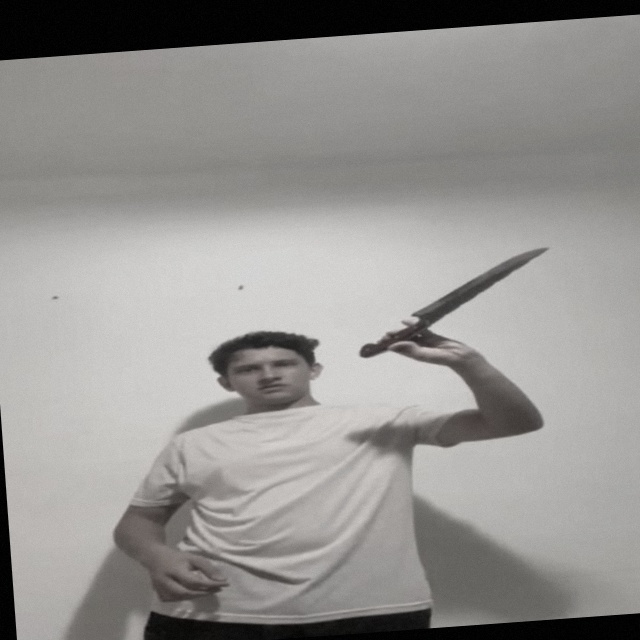Sharp-Object: (403, 244, 555, 324)
